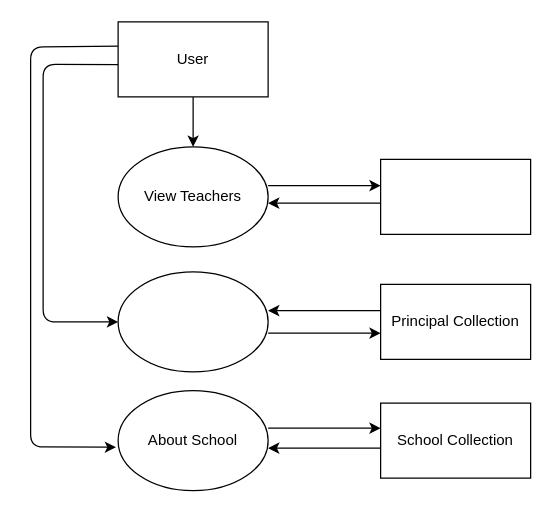
Image size: 553x513. Some labels were removed from this diagram. Each missing label, with the box of its shape:
Teacher Collection: (379, 158, 531, 234)
View Principal: (117, 271, 268, 372)
